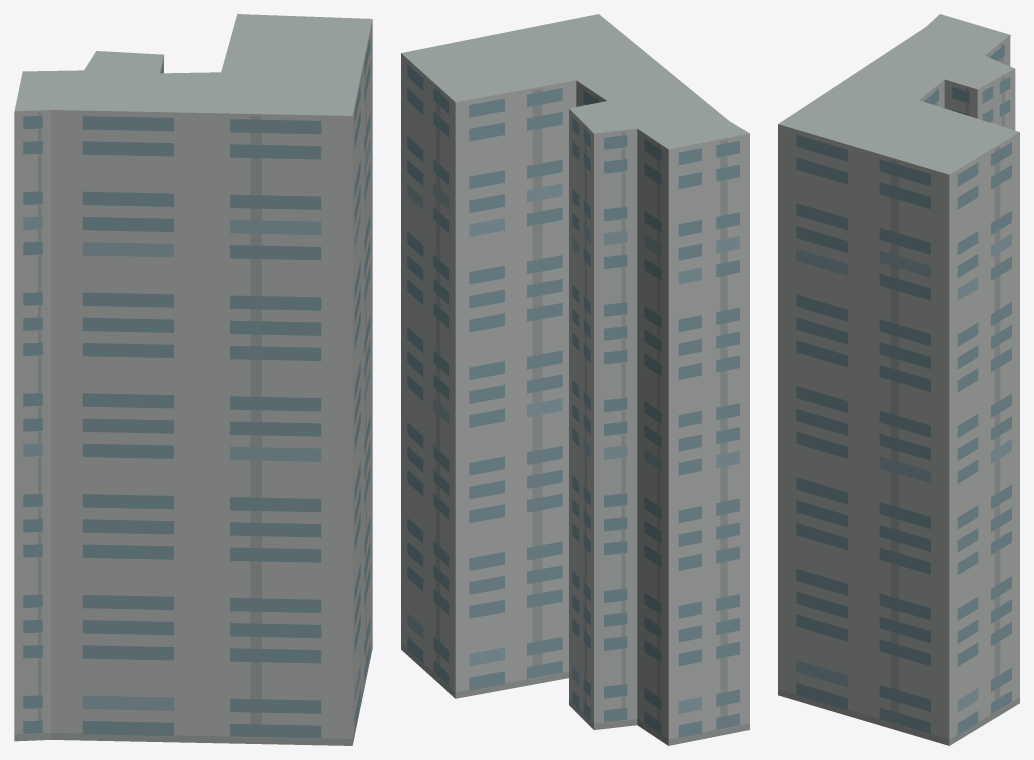
Rendered from residential-e2b07ba0-7618-4c5d-a484-14299527386d.glb.
3 renders of one model, left to right at view 1: azimuth 30°, elevation 25°; view 2: azimuth 150°, elevation 25°; view 3: azimuth 270°, elevation 25°, orthographic. The views are drawn at different scales.
Visible parts, largest first — view 1: residential-e2b07ba0-7618-4c5d-a484-14299527386d.tmp; view 2: residential-e2b07ba0-7618-4c5d-a484-14299527386d.tmp; view 3: residential-e2b07ba0-7618-4c5d-a484-14299527386d.tmp.
Boxes of the visible parts, box(x1,y1,x2,y2) form: residential-e2b07ba0-7618-4c5d-a484-14299527386d.tmp: box(14, 14, 372, 745); residential-e2b07ba0-7618-4c5d-a484-14299527386d.tmp: box(401, 14, 749, 745); residential-e2b07ba0-7618-4c5d-a484-14299527386d.tmp: box(778, 14, 1019, 745).
Bounding box in the file's own units: 44.06 × 73 × 28.02.
